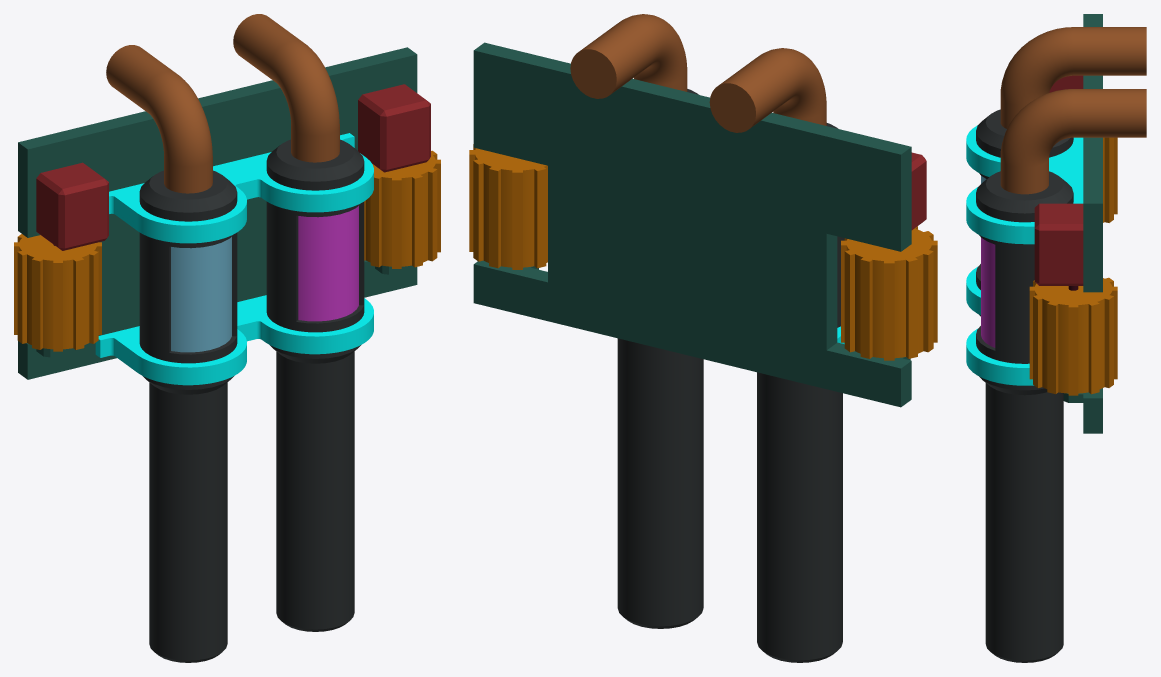
File: cannon.fbx
The picture shows the model from 3 angles, left to right: view 1: azimuth 30°, elevation 25°; view 2: azimuth 150°, elevation 25°; view 3: azimuth 270°, elevation 25°; orthographic projection. The views are drawn at different scales.
Visible parts, largest first — view 1: Body1:8, Body1, Body1:13, Body1:3, Body1:15, Body1:11, Body1:5, Body1:6, Body1:12, Body1:4, Body1:9, Body1:10 (+2 smaller); view 2: Body1:13, Body1:3, Body1:8, Body1, Body1:15, Body1:6, Body1:5, Body1:11, Body1:12; view 3: Body1, Body1:6, Body1:5, Body1:11, Body1:3, Body1:4, Body1:2, Body1:10, Body1:1, Body1:8, Body1:15, Body1:13 (+2 smaller).
Part boxes in pixels (box(x1,y1,x2,y2)): Body1:8: box(139, 170, 237, 662); Body1: box(266, 139, 364, 631); Body1:13: box(18, 95, 222, 379); Body1:3: box(213, 47, 417, 301); Body1:15: box(14, 234, 101, 351); Body1:11: box(106, 45, 212, 193); Body1:5: box(233, 14, 339, 162); Body1:6: box(364, 150, 440, 268); Body1:12: box(36, 162, 108, 250); Body1:4: box(358, 84, 430, 172); Body1:9: box(95, 317, 246, 385); Body1:10: box(109, 164, 246, 243); Body1:13: box(687, 94, 911, 407); Body1:3: box(473, 42, 697, 354); Body1:8: box(757, 123, 844, 662); Body1: box(617, 89, 703, 628); Body1:15: box(841, 226, 937, 360); Body1:6: box(469, 144, 547, 269); Body1:5: box(570, 14, 687, 98); Body1:11: box(709, 48, 826, 132); Body1:12: box(911, 152, 926, 229); Body1: box(976, 171, 1073, 662); Body1:6: box(1029, 277, 1117, 395); Body1:5: box(1000, 89, 1146, 194); Body1:11: box(1000, 27, 1146, 128); Body1:3: box(1063, 137, 1102, 433); Body1:4: box(1034, 203, 1083, 285); Body1:2: box(966, 170, 1083, 244); Body1:10: box(966, 125, 1083, 176); Body1:1: box(966, 328, 1033, 385); Body1:8: box(976, 109, 1073, 316); Body1:15: box(1103, 137, 1117, 222); Body1:13: box(1083, 14, 1102, 88).
Size of the model in its own units: 490 by 630 by 185.
